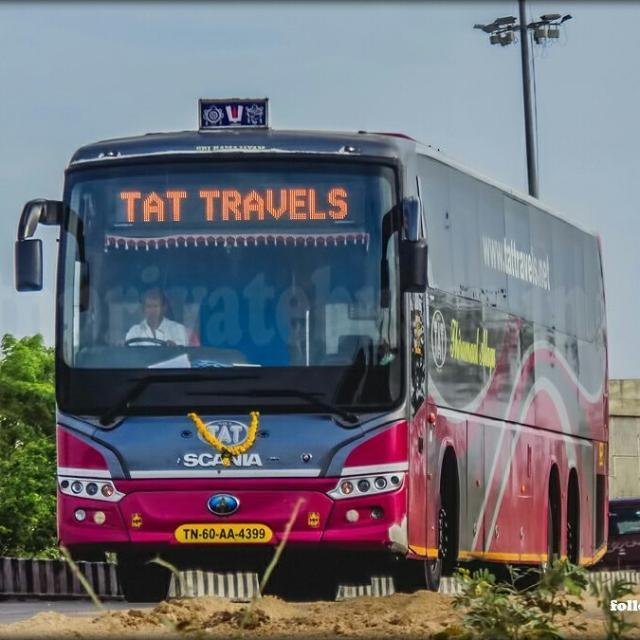Bus: (47, 94, 612, 600)
